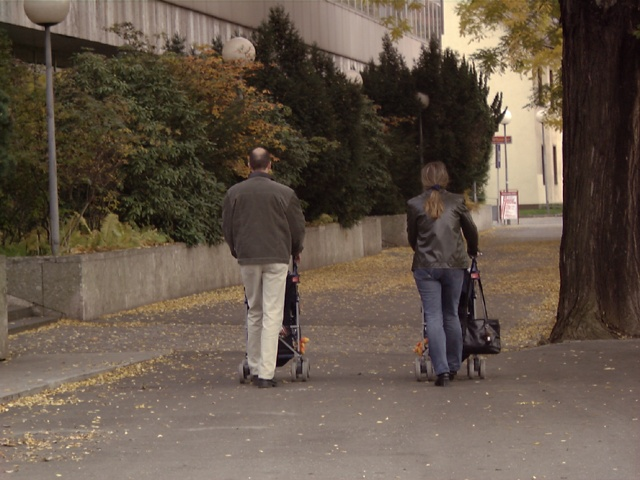person: (215, 149, 305, 389), (406, 158, 479, 384)
